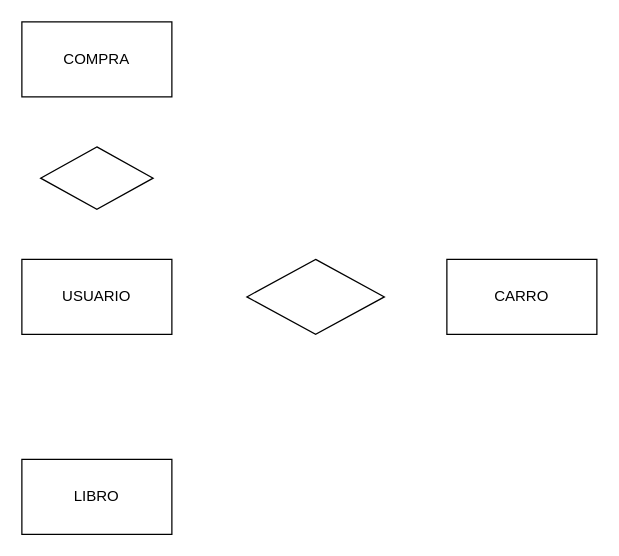
Some shapes in this 619 by 556 pixel diagram are drawn without their labels. The centre of each missing label's shape, as x and y in pixels:
"HACE" goes at point (96, 177).
"TIENE" goes at point (315, 296).
